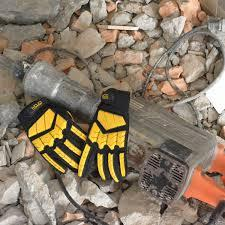gloves: (17, 96, 88, 175), (77, 88, 131, 184)
